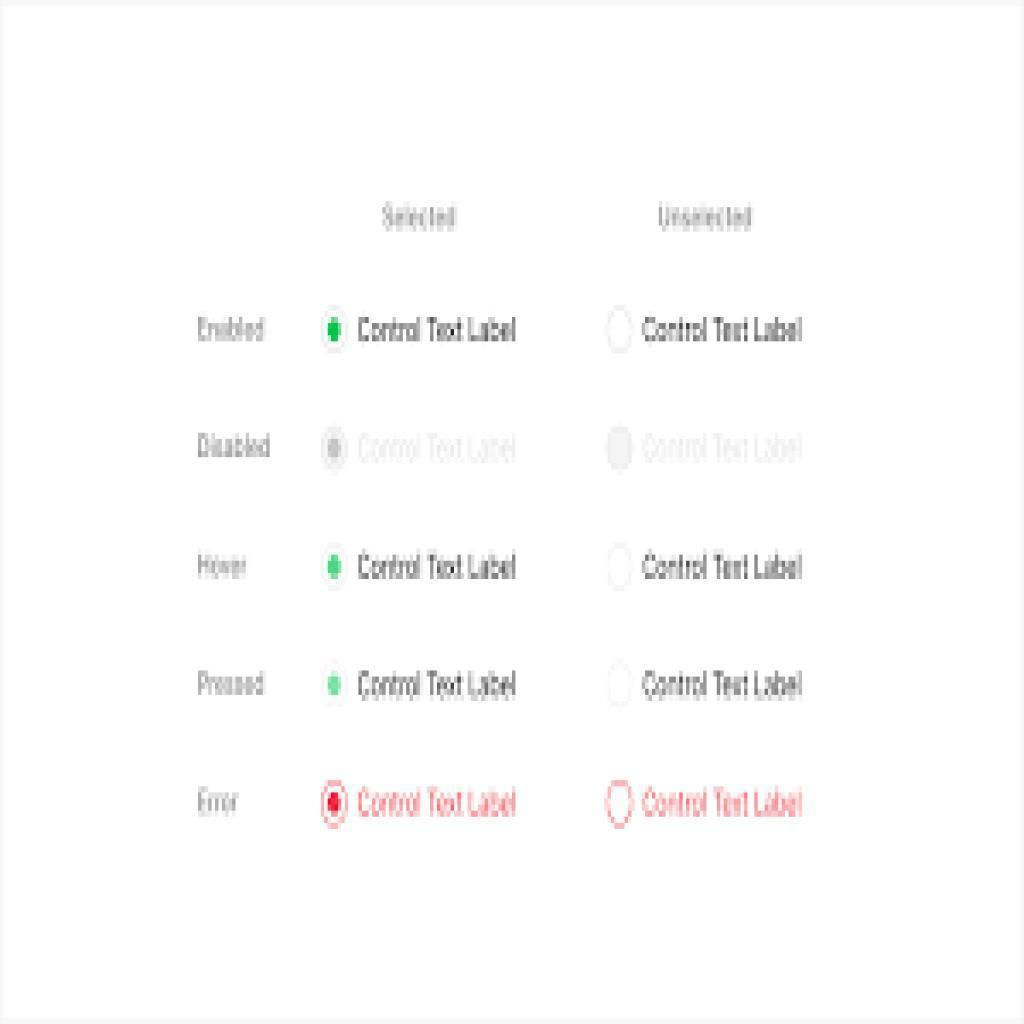label: (350, 663, 526, 708), (641, 780, 807, 825), (637, 661, 810, 704), (353, 309, 520, 353), (357, 781, 518, 824), (640, 313, 811, 353), (639, 547, 810, 586), (356, 549, 519, 585)
radio: (602, 773, 639, 831), (320, 771, 351, 832), (602, 306, 638, 356), (319, 422, 351, 475), (602, 659, 637, 707), (604, 424, 636, 475), (603, 540, 635, 591), (321, 302, 349, 357), (319, 540, 350, 586), (321, 655, 346, 712)
